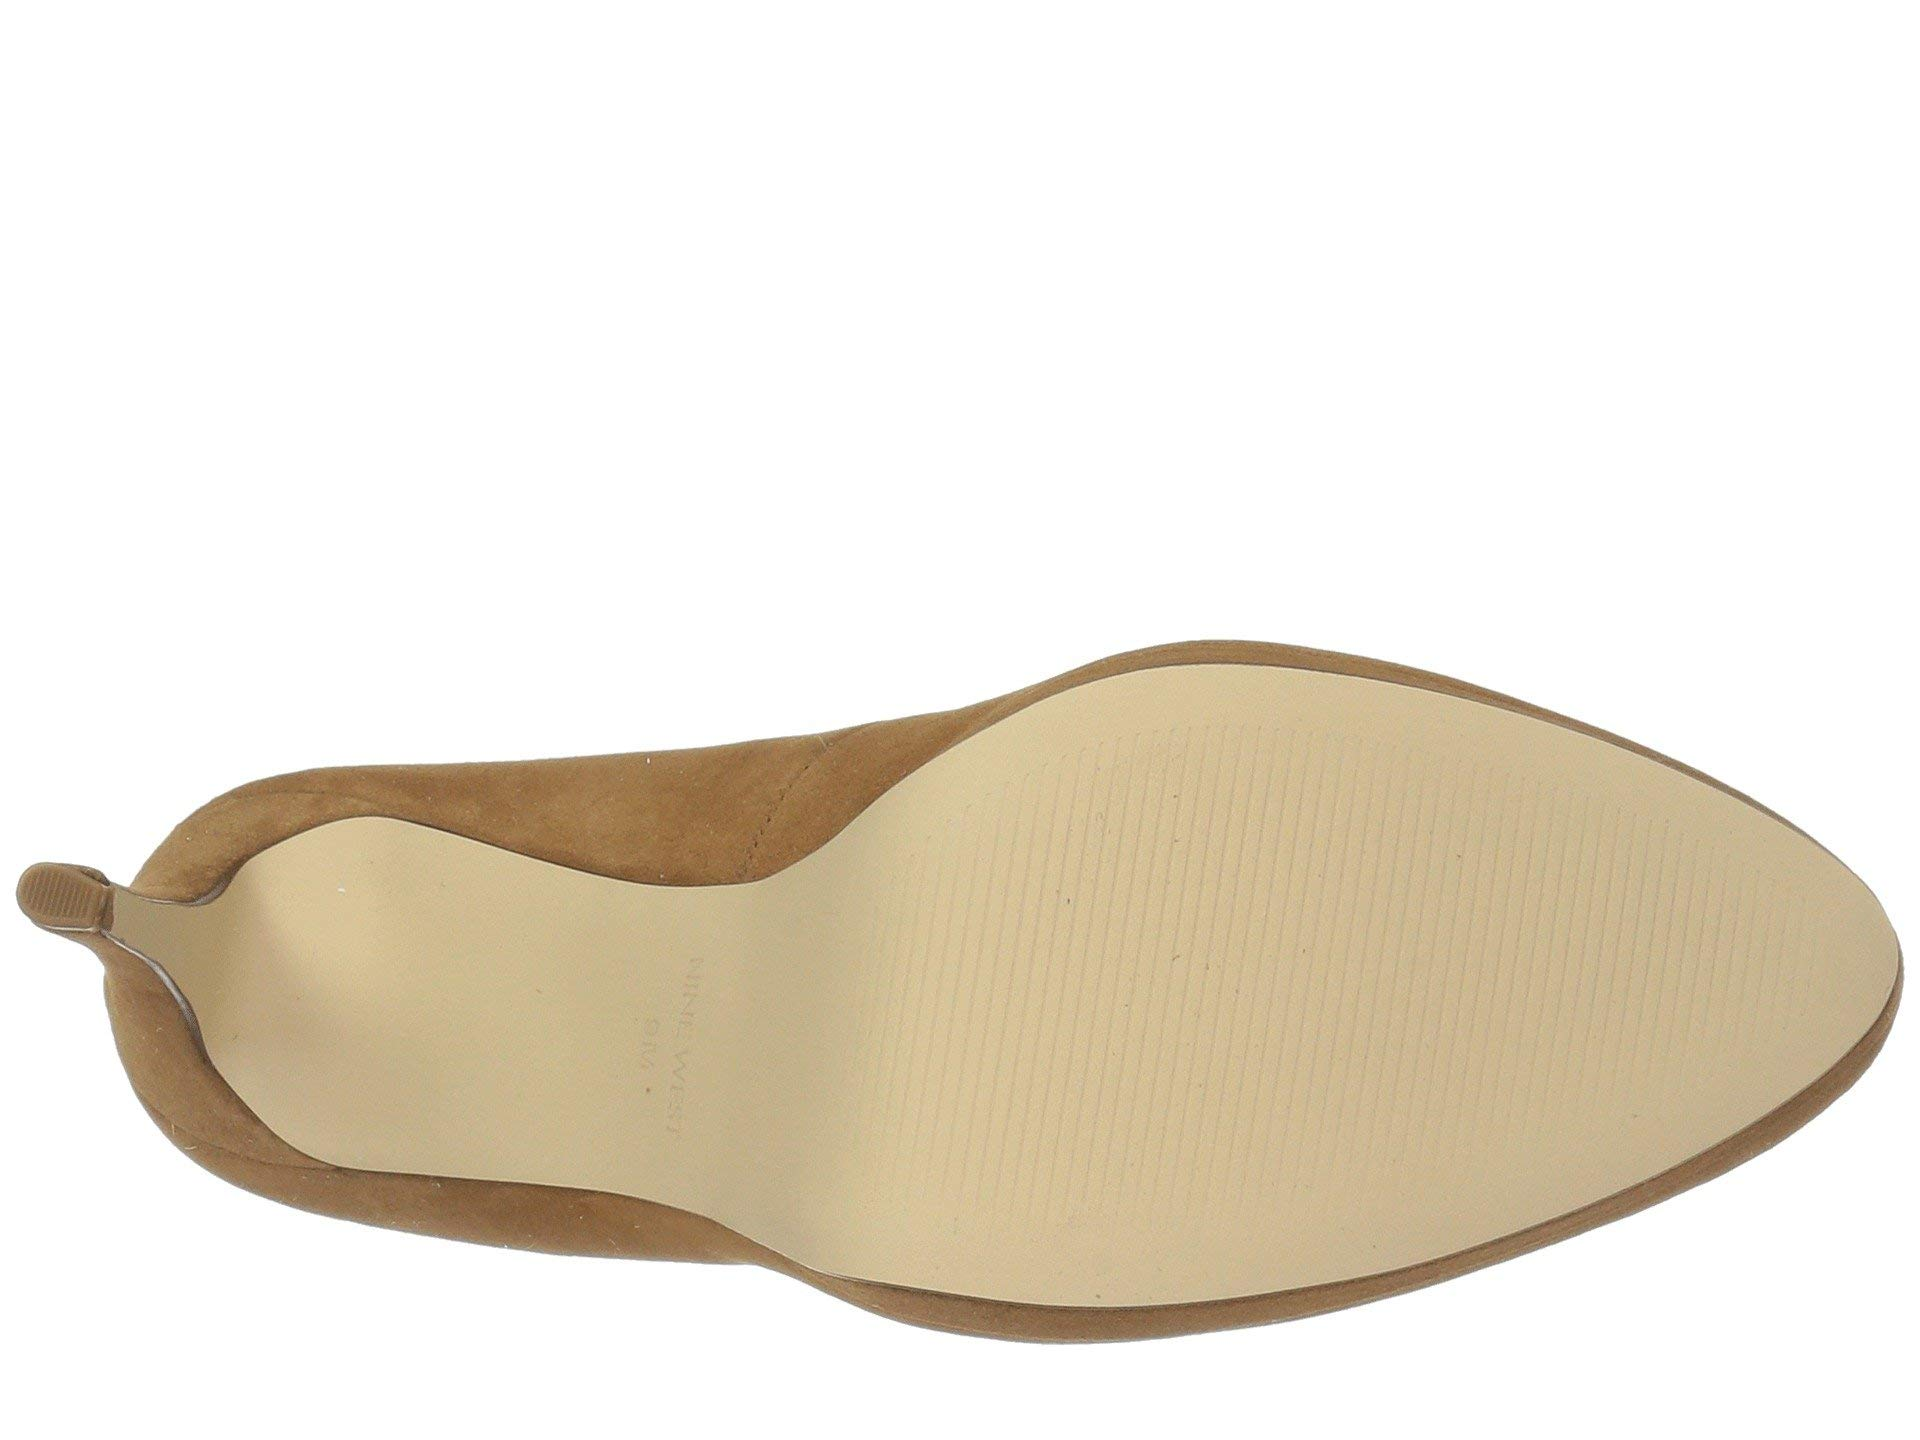circle: (23, 867, 110, 933)
exclude: (203, 787, 804, 1255)
line: (1042, 776, 1510, 1063), (23, 867, 110, 933)
